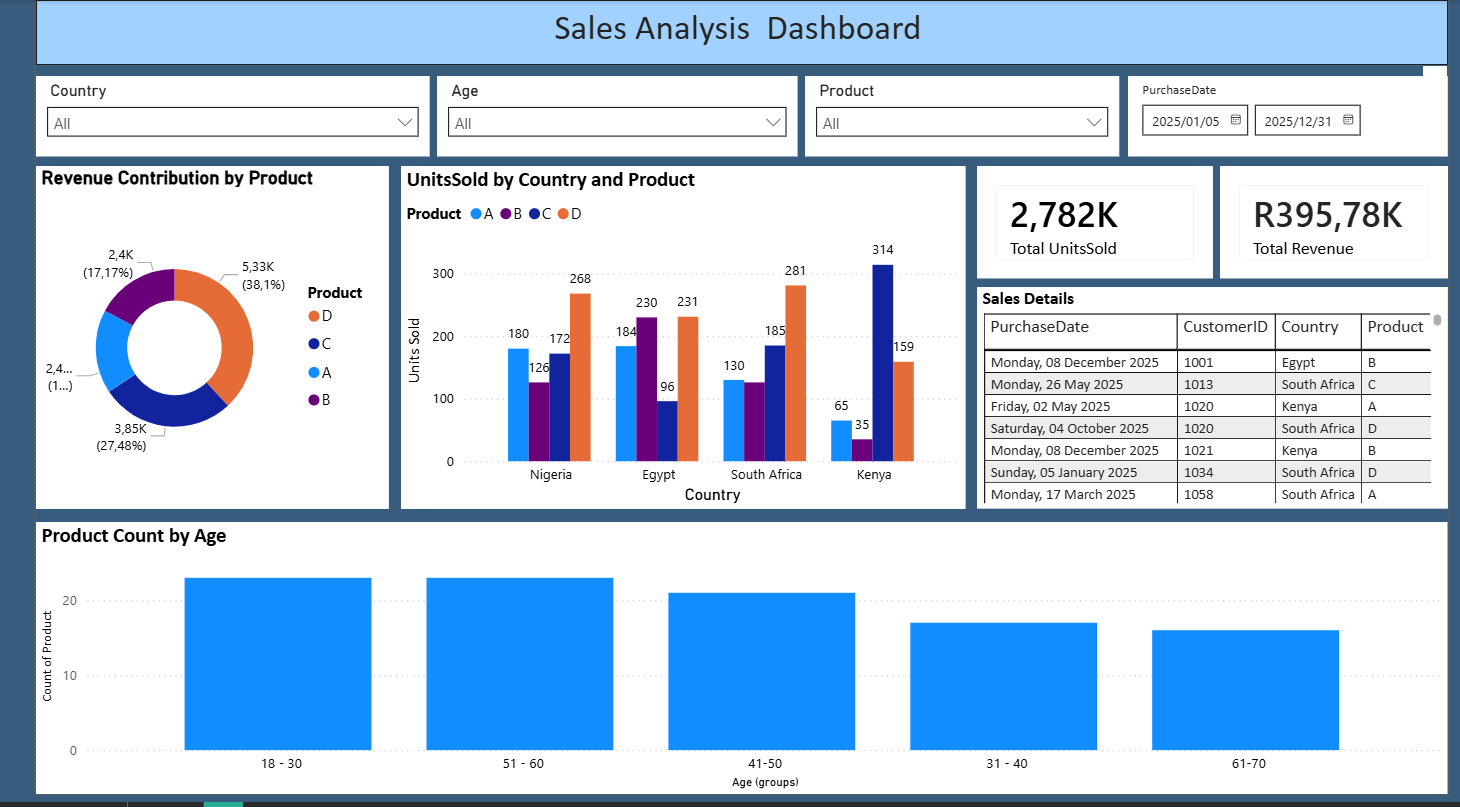

The page's visual inventory and layout, read from the dashboard file:
{"tool":"powerbi","page":{"name":"Page 1","canvas":[1280,720],"ordinal":0},"visuals":[{"type":"textbox","box":[0,0,1280.4,58.9],"z":0},{"type":"cardVisual","fields":{"Data":["Sum(practice_sales_data_cleaned.Revenue)"]},"box":[1079.1,150.5,201.3,102.5],"z":2000},{"type":"donutChart","title":"Revenue Contribution by Product","fields":{"Category":["practice_sales_data_cleaned.Product"],"Y":["Sum(practice_sales_data_cleaned.UnitPrice)"]},"box":[0,150.5,320.1,311],"z":3000},{"type":"clusteredColumnChart","title":"UnitsSold by Country and Product","fields":{"Category":["practice_sales_data_cleaned.Country"],"Y":["Sum(practice_sales_data_cleaned.UnitsSold)"],"Series":["practice_sales_data_cleaned.Product"]},"box":[331,150.5,512.3,311],"z":4000},{"type":"lineStackedColumnComboChart","title":"Product Count by Age","fields":{"Category":["practice_sales_data_cleaned.Age (groups)"],"Y":["CountNonNull(practice_sales_data_cleaned.Product)"]},"box":[0,473.4,1280.4,246.6],"z":5000},{"type":"slicer","fields":{"Values":["practice_sales_data_cleaned.Country"]},"box":[0,68.9,357.3,73.5],"z":6000},{"type":"slicer","fields":{"Values":["practice_sales_data_cleaned.Age"]},"box":[363.6,68.9,327.4,73.5],"z":7000},{"type":"cardVisual","fields":{"Data":["Sum(practice_sales_data_cleaned.UnitsSold)"]},"box":[853.3,150.5,214,102.5],"z":8000},{"type":"tableEx","title":"Sales Details","fields":{"Values":["practice_sales_data_cleaned.PurchaseDate","practice_sales_data_cleaned.CustomerID","practice_sales_data_cleaned.Country","practice_sales_data_cleaned.Product"]},"box":[853.3,260.3,427.1,201.3],"z":9000},{"type":"slicer","fields":{"Values":["practice_sales_data_cleaned.PurchaseDate"]},"box":[990.2,68.9,290.2,73.5],"z":9001},{"type":"slicer","fields":{"Values":["practice_sales_data_cleaned.Product"]},"box":[697.3,68.9,284.7,73.5],"z":9002}]}

Visuals, with their boxes in screenshot pixels (x1, y1, x2, y2), scaled from the page's 1280x720 canvas onto the 1460x807 screenshot:
textbox: 0/0/1459/66
cardVisual - Sum(practice_sales_data_cleaned.Revenue): 1231/169/1459/284
"Revenue Contribution by Product" donutChart: 0/169/365/517
"UnitsSold by Country and Product" clusteredColumnChart: 378/169/962/517
"Product Count by Age" lineStackedColumnComboChart: 0/531/1459/806
slicer - practice_sales_data_cleaned.Country: 0/77/408/160
slicer - practice_sales_data_cleaned.Age: 415/77/788/160
cardVisual - Sum(practice_sales_data_cleaned.UnitsSold): 973/169/1217/284
"Sales Details" tableEx: 973/292/1459/517
slicer - practice_sales_data_cleaned.PurchaseDate: 1129/77/1459/160
slicer - practice_sales_data_cleaned.Product: 795/77/1120/160
